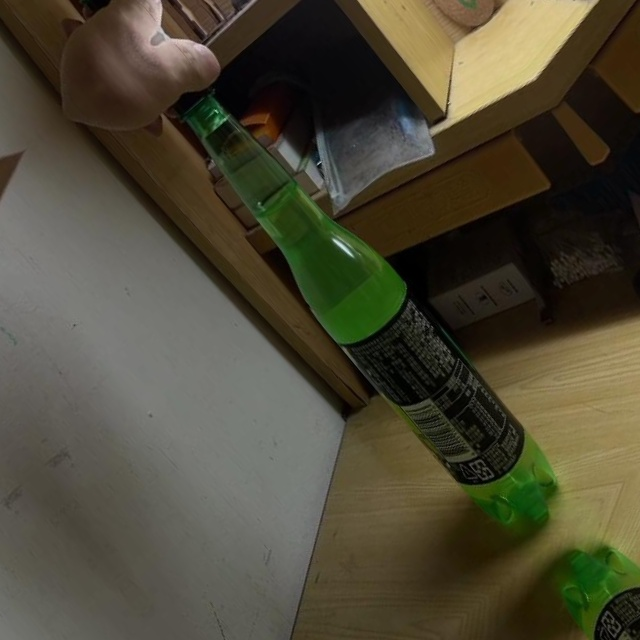Mountain-Dew: (125, 33, 579, 548)
